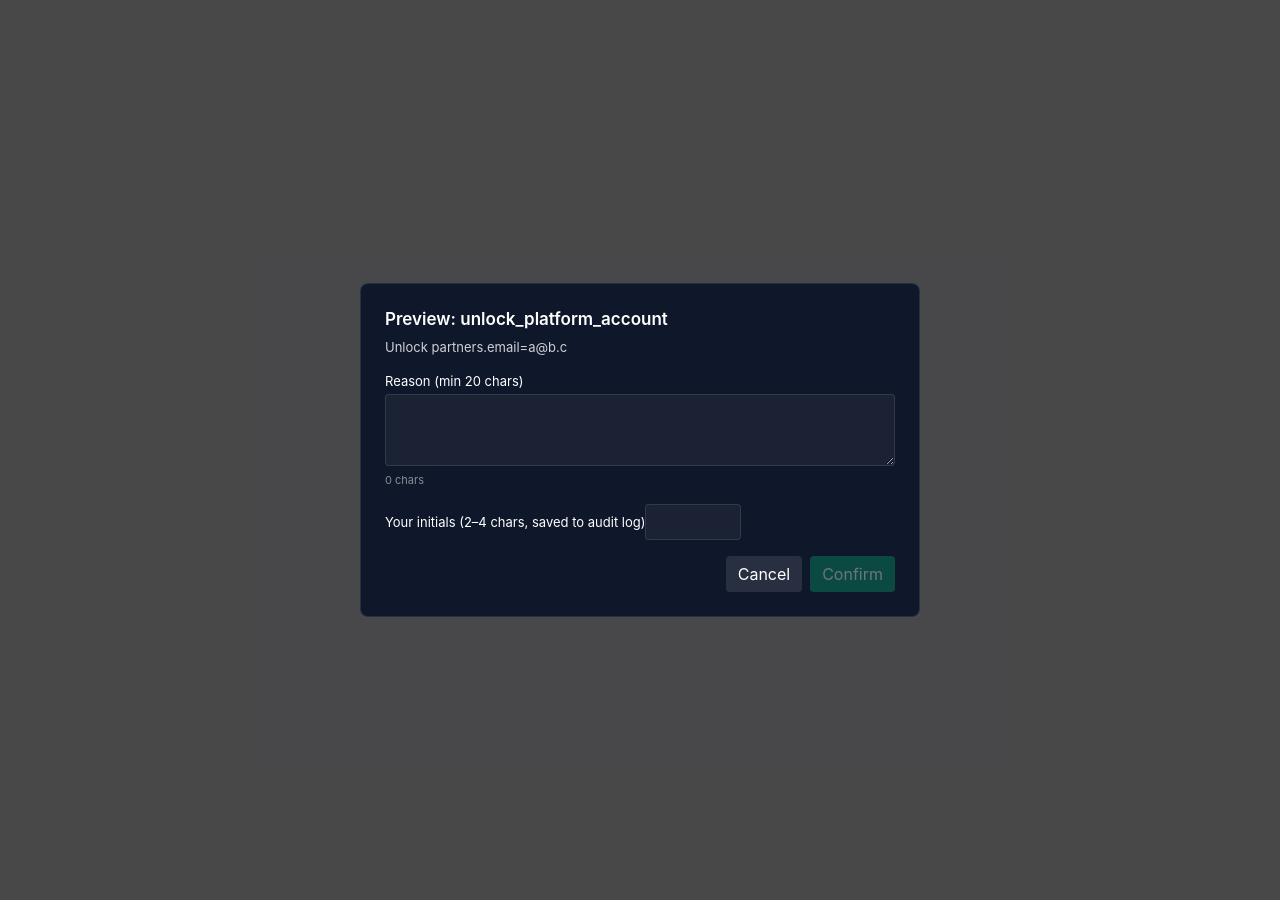
ActionPreviewModal › disables confirm until reason >=20 chars + initials present
The image size is (1280, 900).
Expected: the button "Confirm" is disabled, [810, 556, 895, 592]
Type "Short" into the text box labelled "Reason (min 20 chars) 0 chars" at (640, 430), box [385, 394, 895, 466]
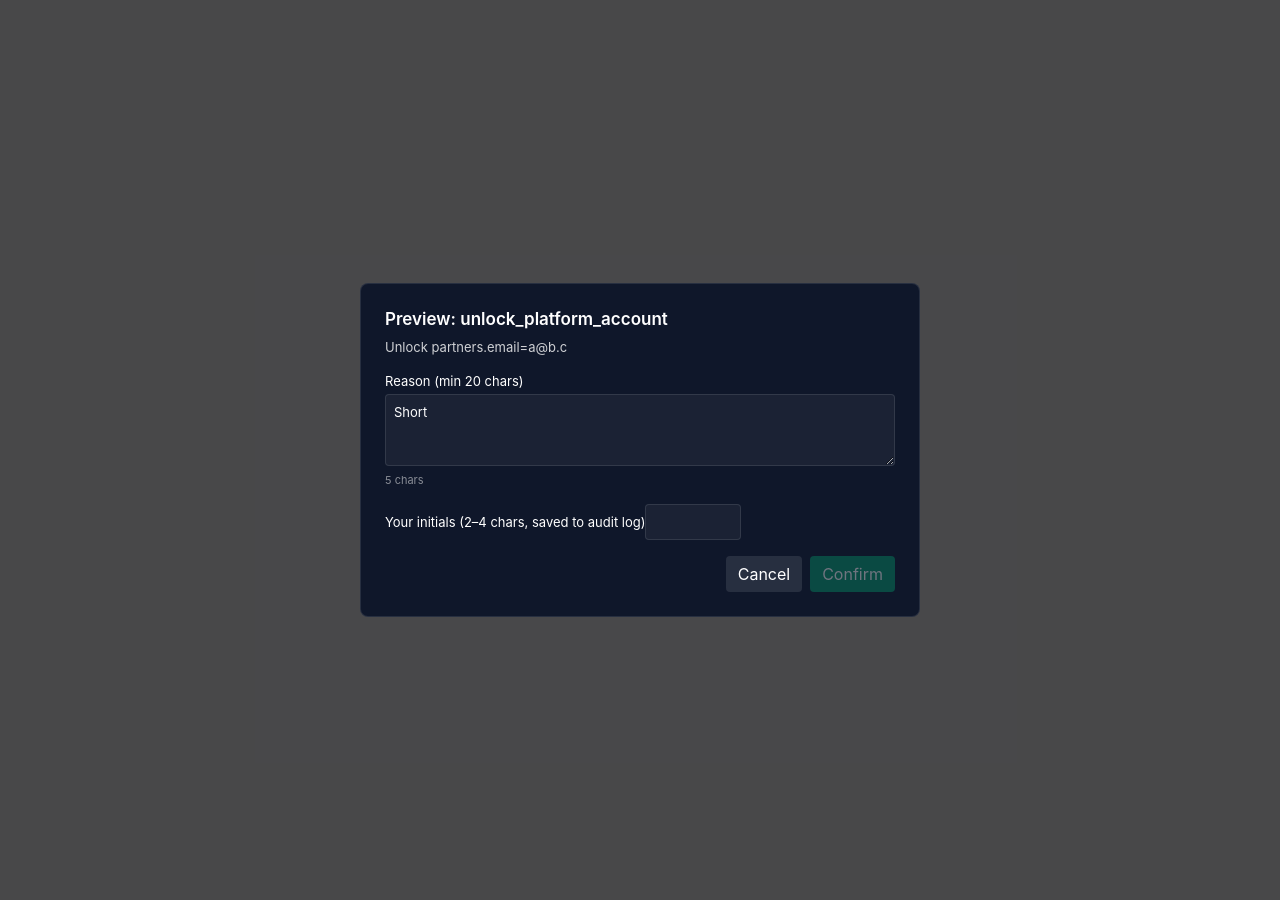
Type "JR" into the field labelled "Your initials (2–4 chars, saved to audit log)" at (694, 522), box [646, 504, 742, 540]
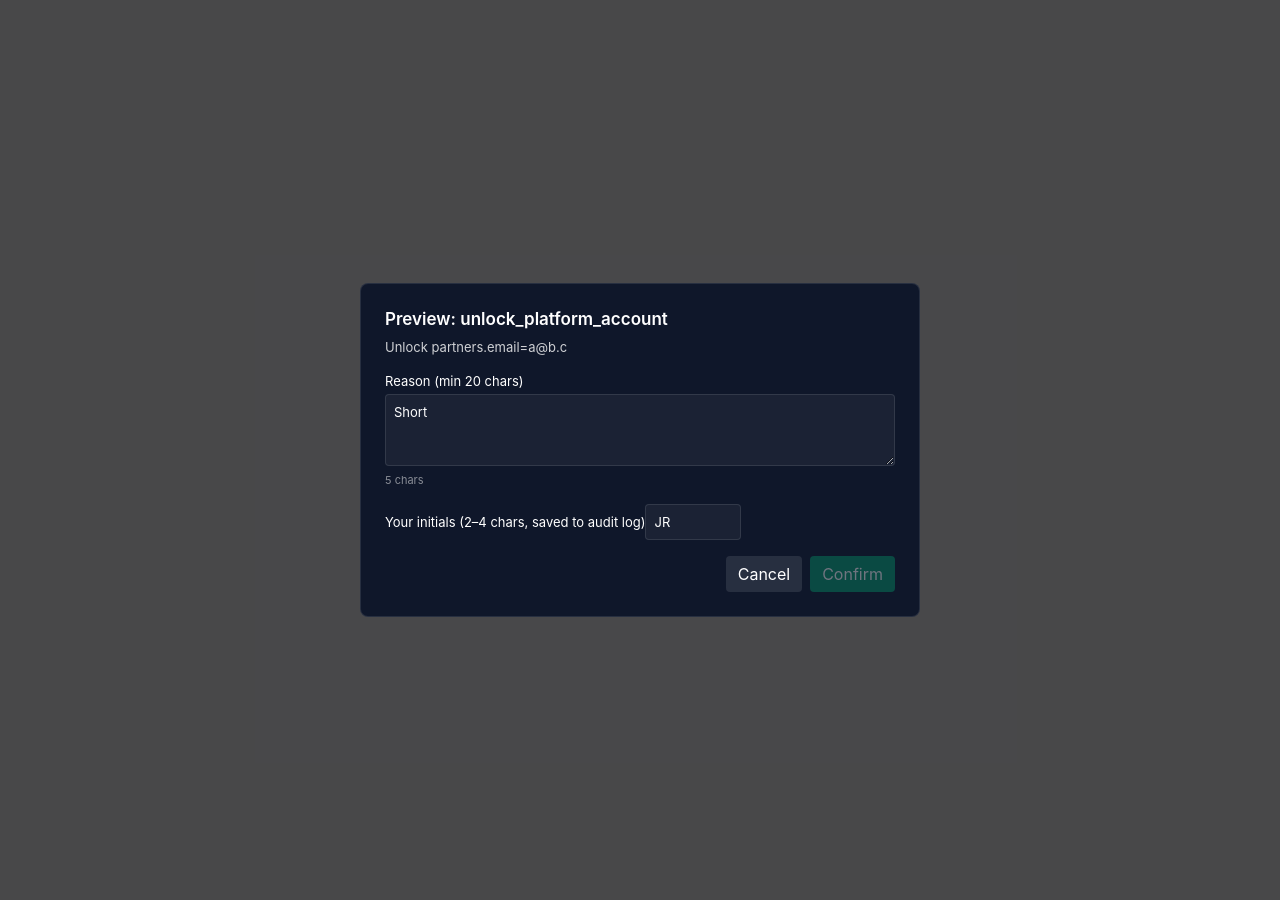
Expected: the button "Confirm" is disabled, [810, 556, 895, 592]
Replace the text in the text box labelled "Reason (min 20 chars) 5 chars" with "Confirmed via phone call, user is legit" at (640, 430), box [385, 394, 895, 466]
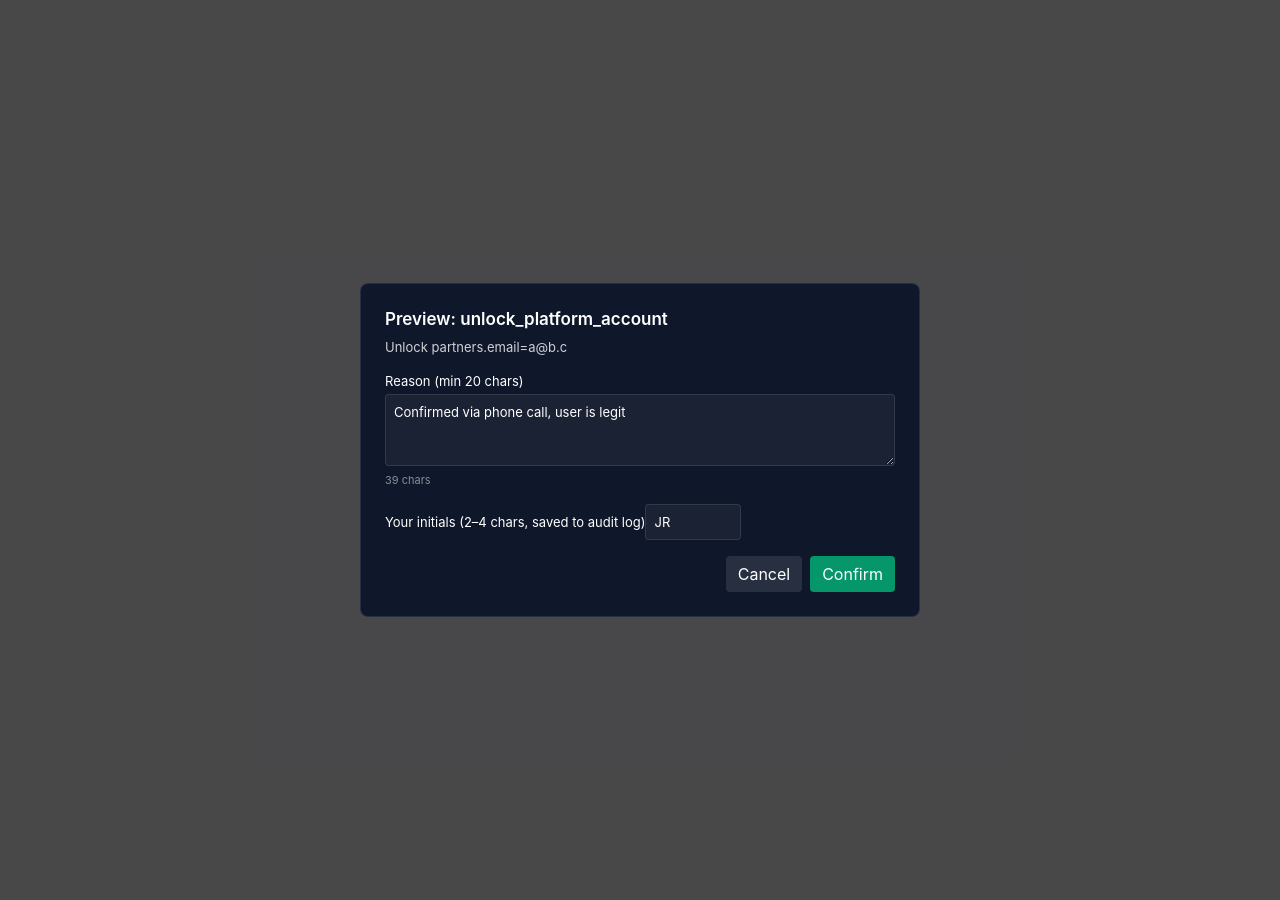
Now the button "Confirm" is enabled, box [810, 556, 895, 592]
